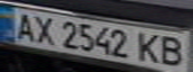2: (54, 18, 81, 51), (109, 27, 133, 61)
4: (90, 25, 112, 56)
5: (75, 21, 96, 53)
A: (9, 10, 39, 42)
B: (157, 34, 190, 68)
K: (133, 30, 163, 64)
X: (30, 13, 57, 46)
